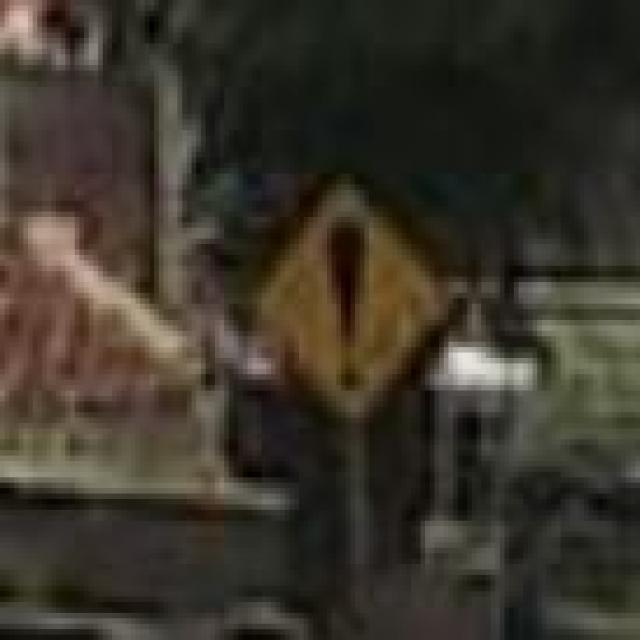traffic sign: (262, 185, 444, 418)
